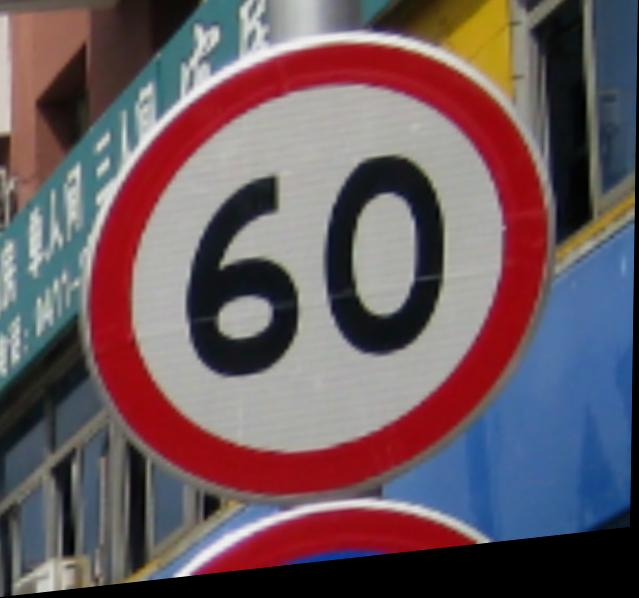limit60: (72, 17, 555, 531)
